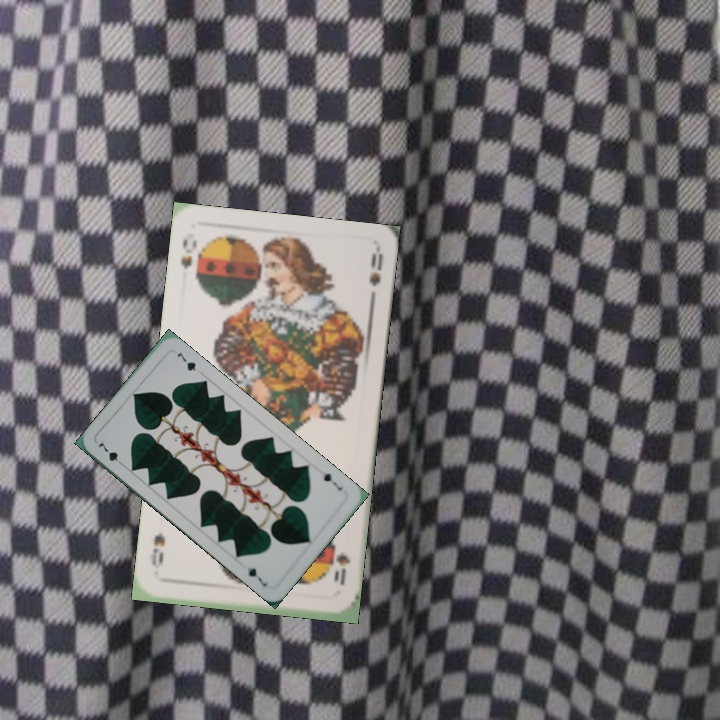G7: (94, 439, 127, 469), (319, 469, 345, 493)
SO: (329, 541, 353, 588), (177, 234, 200, 271)
